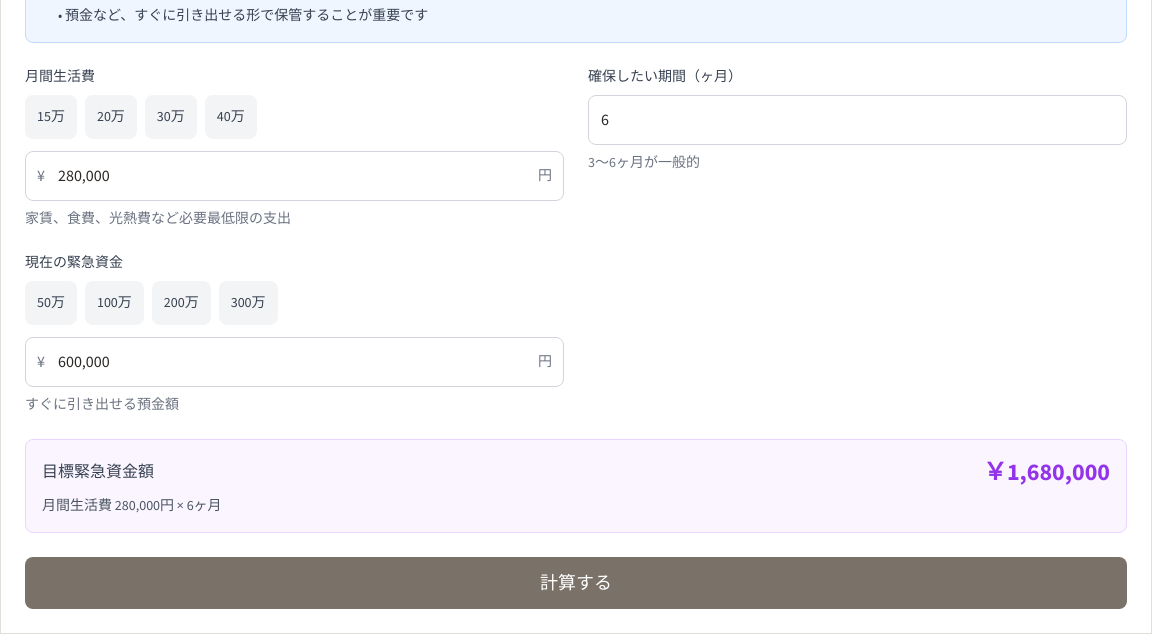
EmergencyFundCalculator › 結果表示 › 緊急資金充足状況セクションが表示される
The width and height of the screenshot is (1152, 634).
(page scrolled)
Step 1. Click the button "計算する" → (576, 583), box [25,557,1127,609]
(page scrolled)
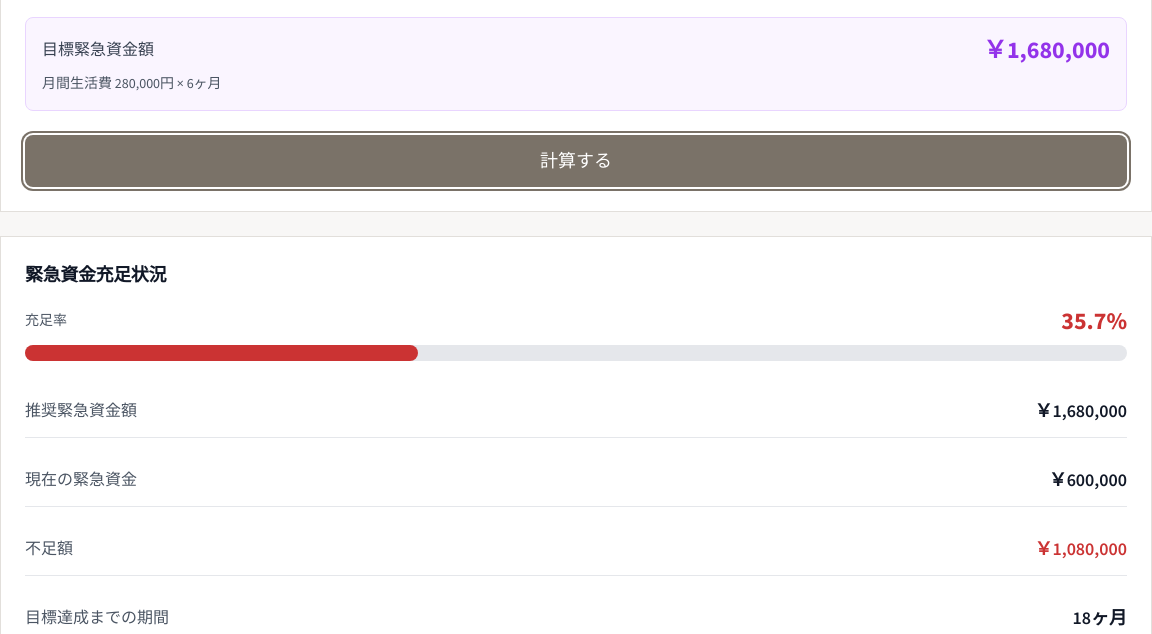
Expected: the heading "緊急資金充足状況" is shown, [25,264,166,286]
